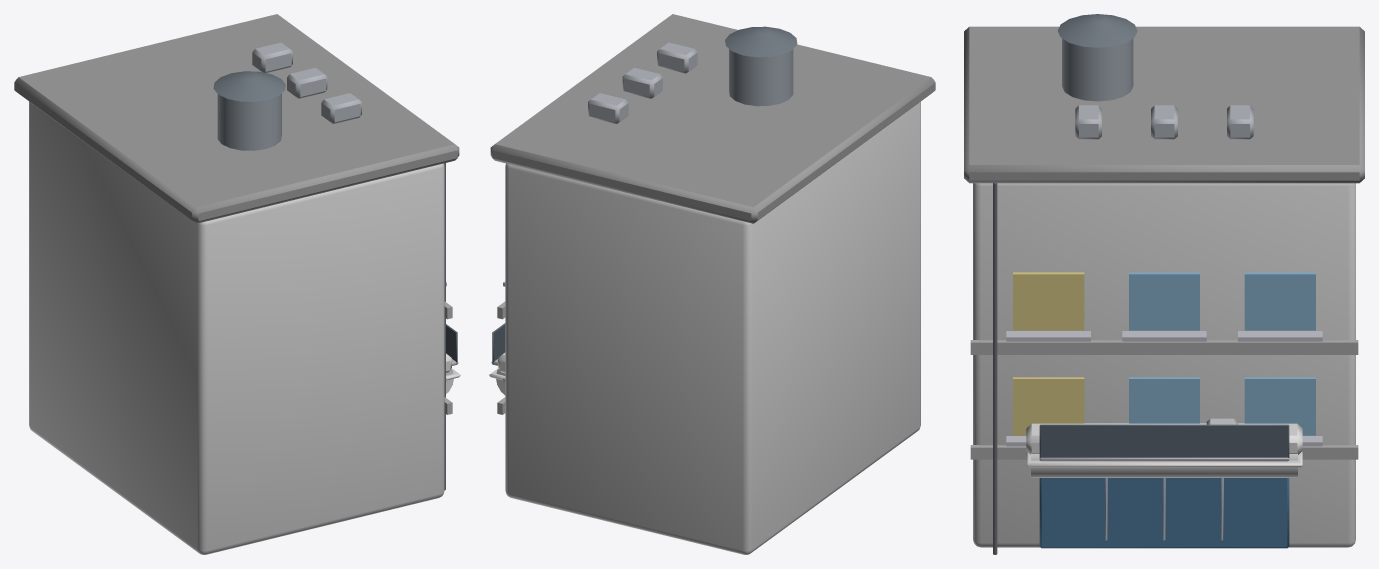
Rendered from bld_1.glb.
The picture shows the model from 3 angles, left to right: view 1: azimuth 30°, elevation 25°; view 2: azimuth 150°, elevation 25°; view 3: azimuth 270°, elevation 25°; orthographic projection. The views are drawn at different scales.
Visible parts, largest first — view 1: b; view 2: b; view 3: b.
Part boxes in pixels (x1,y1,x2,y2): b: (14, 14, 460, 554); b: (489, 14, 935, 554); b: (964, 14, 1364, 554).
Bounding box in the file's own units: 8.5 × 11.3 × 9.
